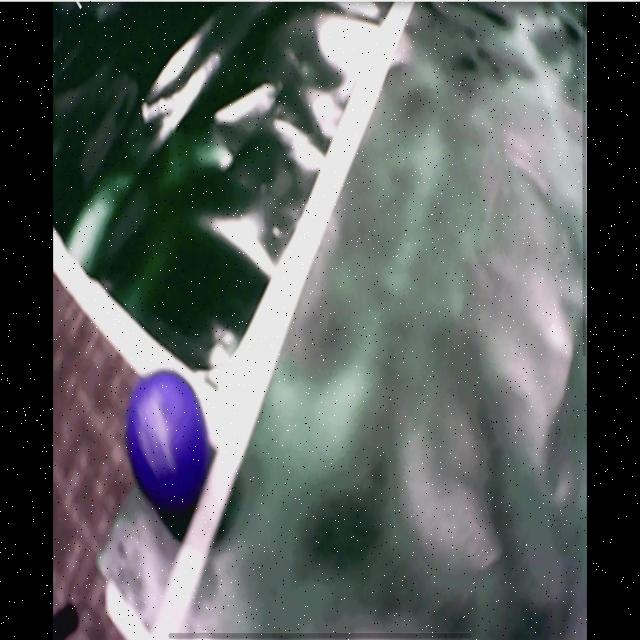ball: (126, 369, 209, 499)
